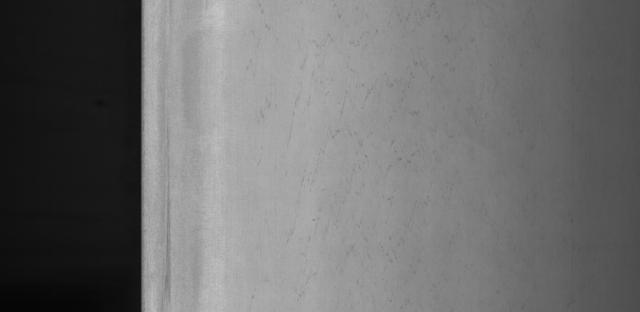silk_spot: (265, 19, 441, 238)
